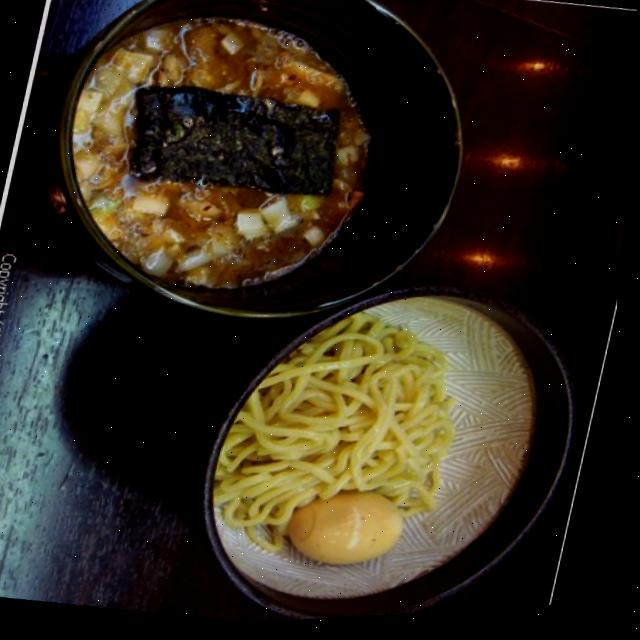面条主食: (0, 0, 534, 599)
